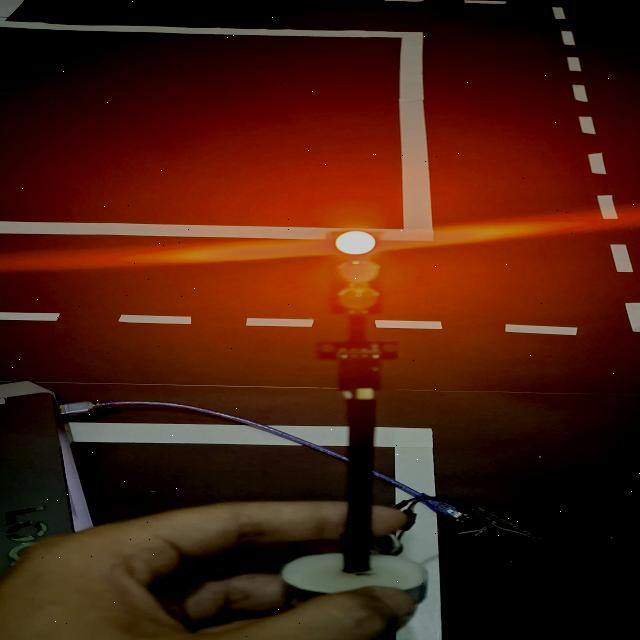Lampu Merah: (326, 229, 386, 316)
